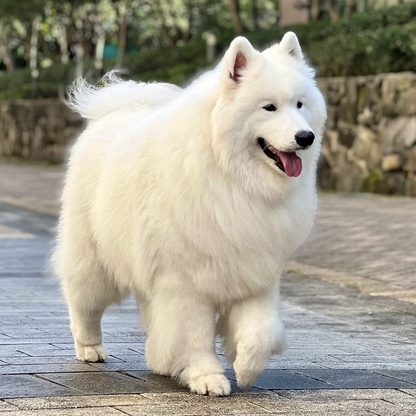samoyed: (45, 26, 338, 402)
